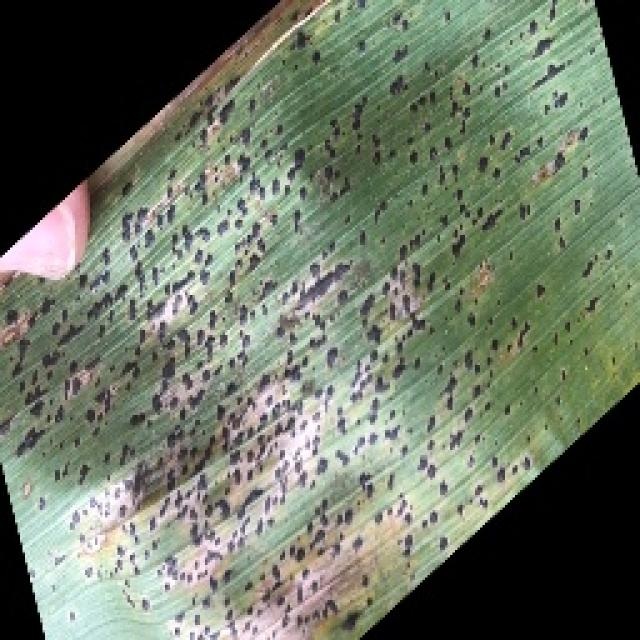Tar_Spot: (132, 133, 380, 485)
